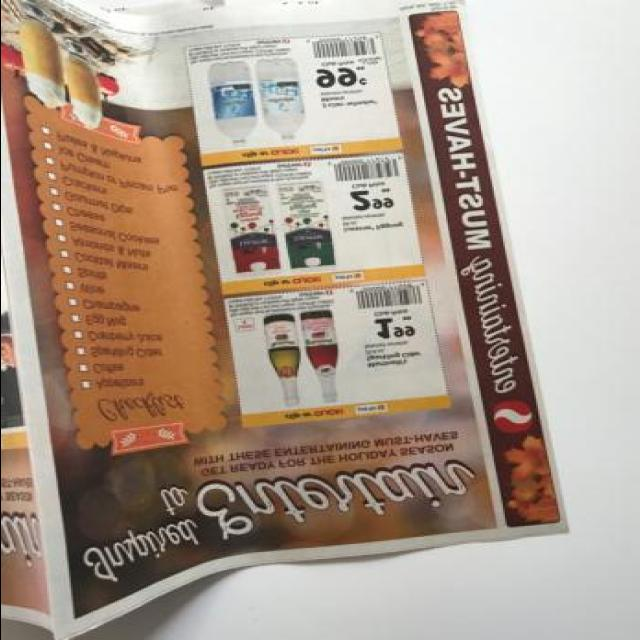kertas: (0, 0, 568, 640)
